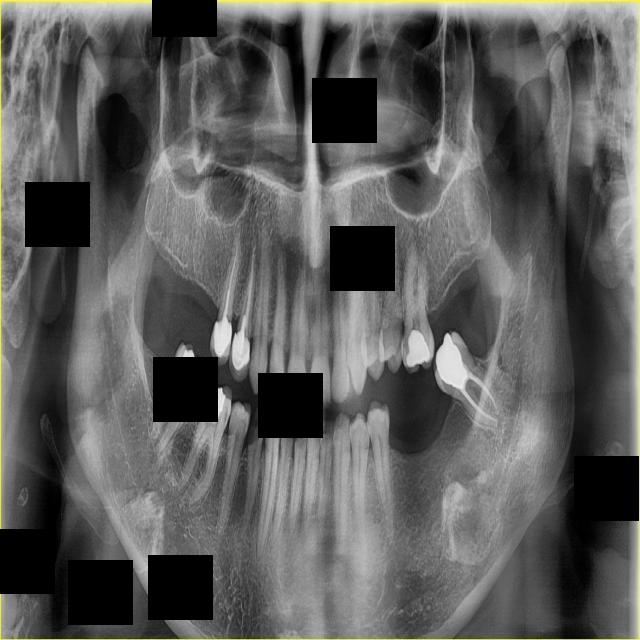71: (237, 314, 248, 354)
74: (460, 364, 504, 411), (457, 384, 496, 425), (222, 246, 241, 319), (242, 247, 257, 335)
NucleOSS Implant: (425, 332, 472, 395), (399, 328, 433, 369), (201, 382, 227, 423), (178, 347, 205, 383)
Sterngold Implant: (242, 407, 272, 448), (225, 408, 230, 426), (199, 387, 205, 402)
Zimmer Implant: (208, 318, 232, 368), (228, 332, 251, 381)
